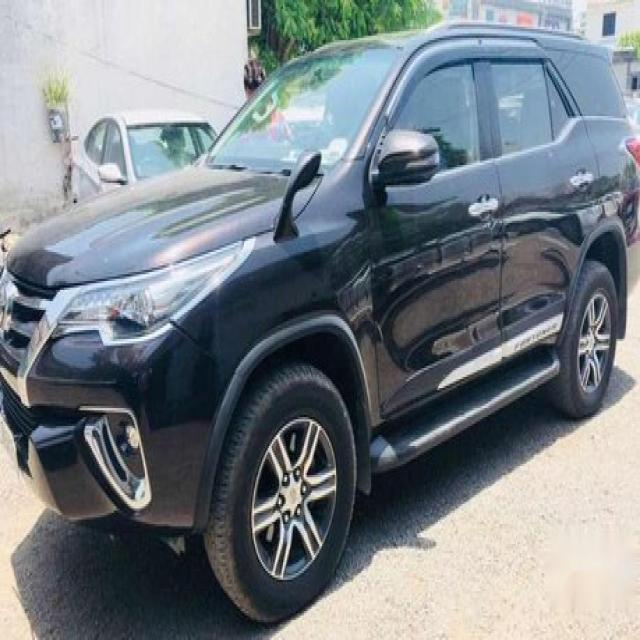light_vehicle: (1, 24, 639, 624)
